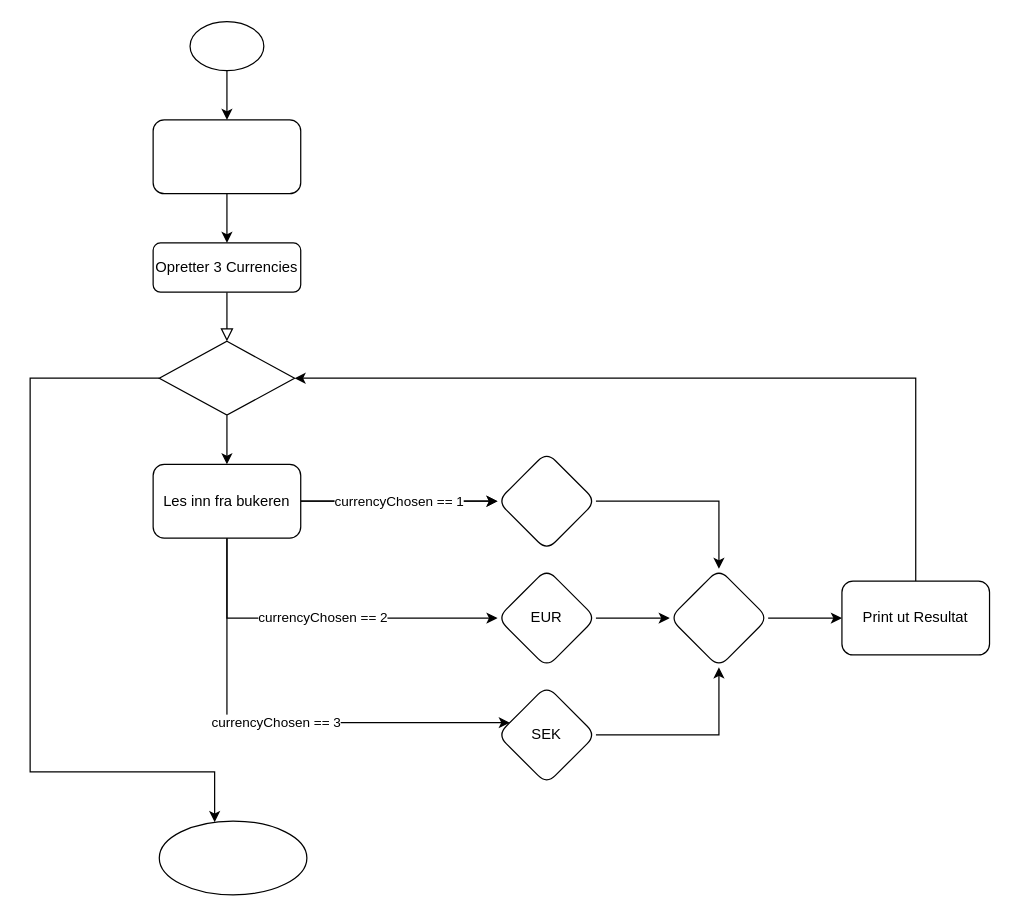
Image size: 1011x916. Some labels were removed from this diagram. The shapes that lost their labels are listed below. From the top down, each one's box as (x1, y1, x2, y2) in pixels, then its label:
(152, 119, 301, 194): Opretter Objekt Array
(496, 451, 596, 550): USD
(669, 568, 768, 667): Til/Fra Nok
